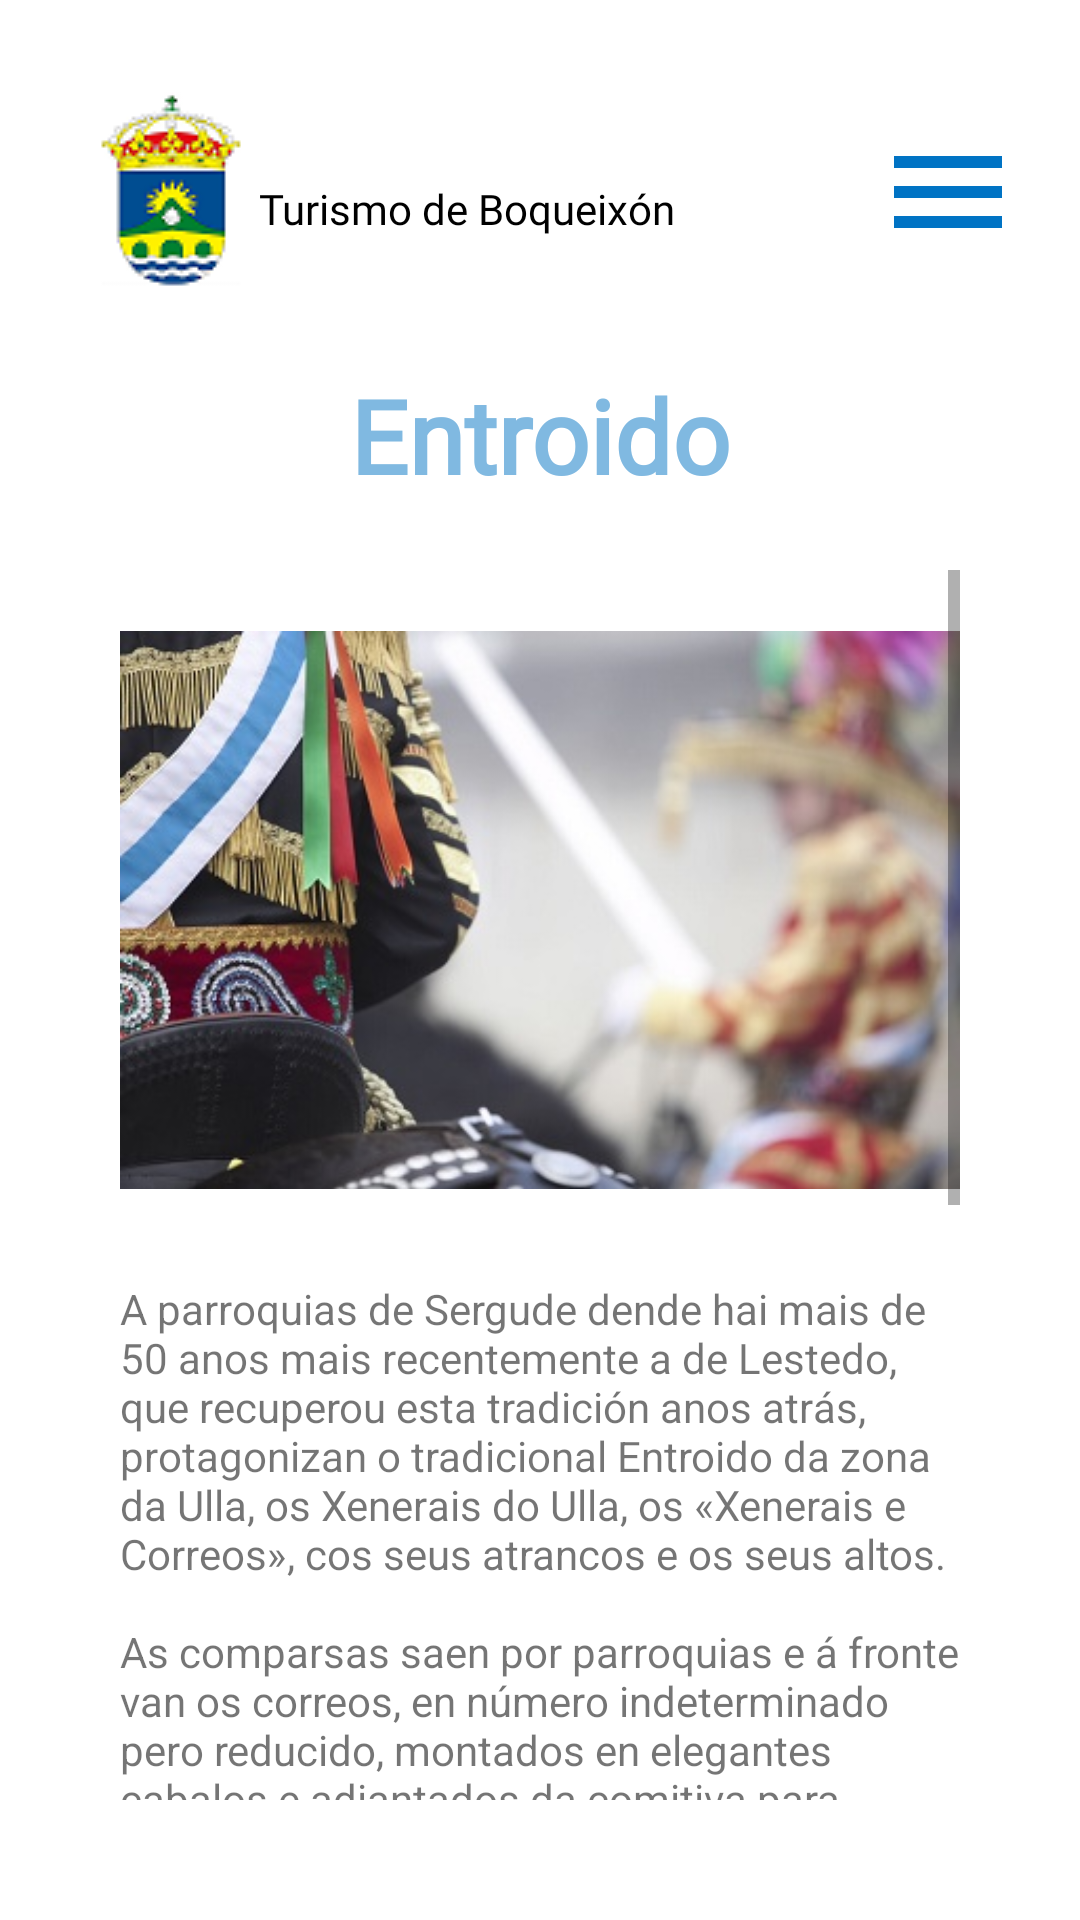

Named icons in this screenshot (1080x1920) and their centers, (x,y):
hamburguesa: (948,192)
